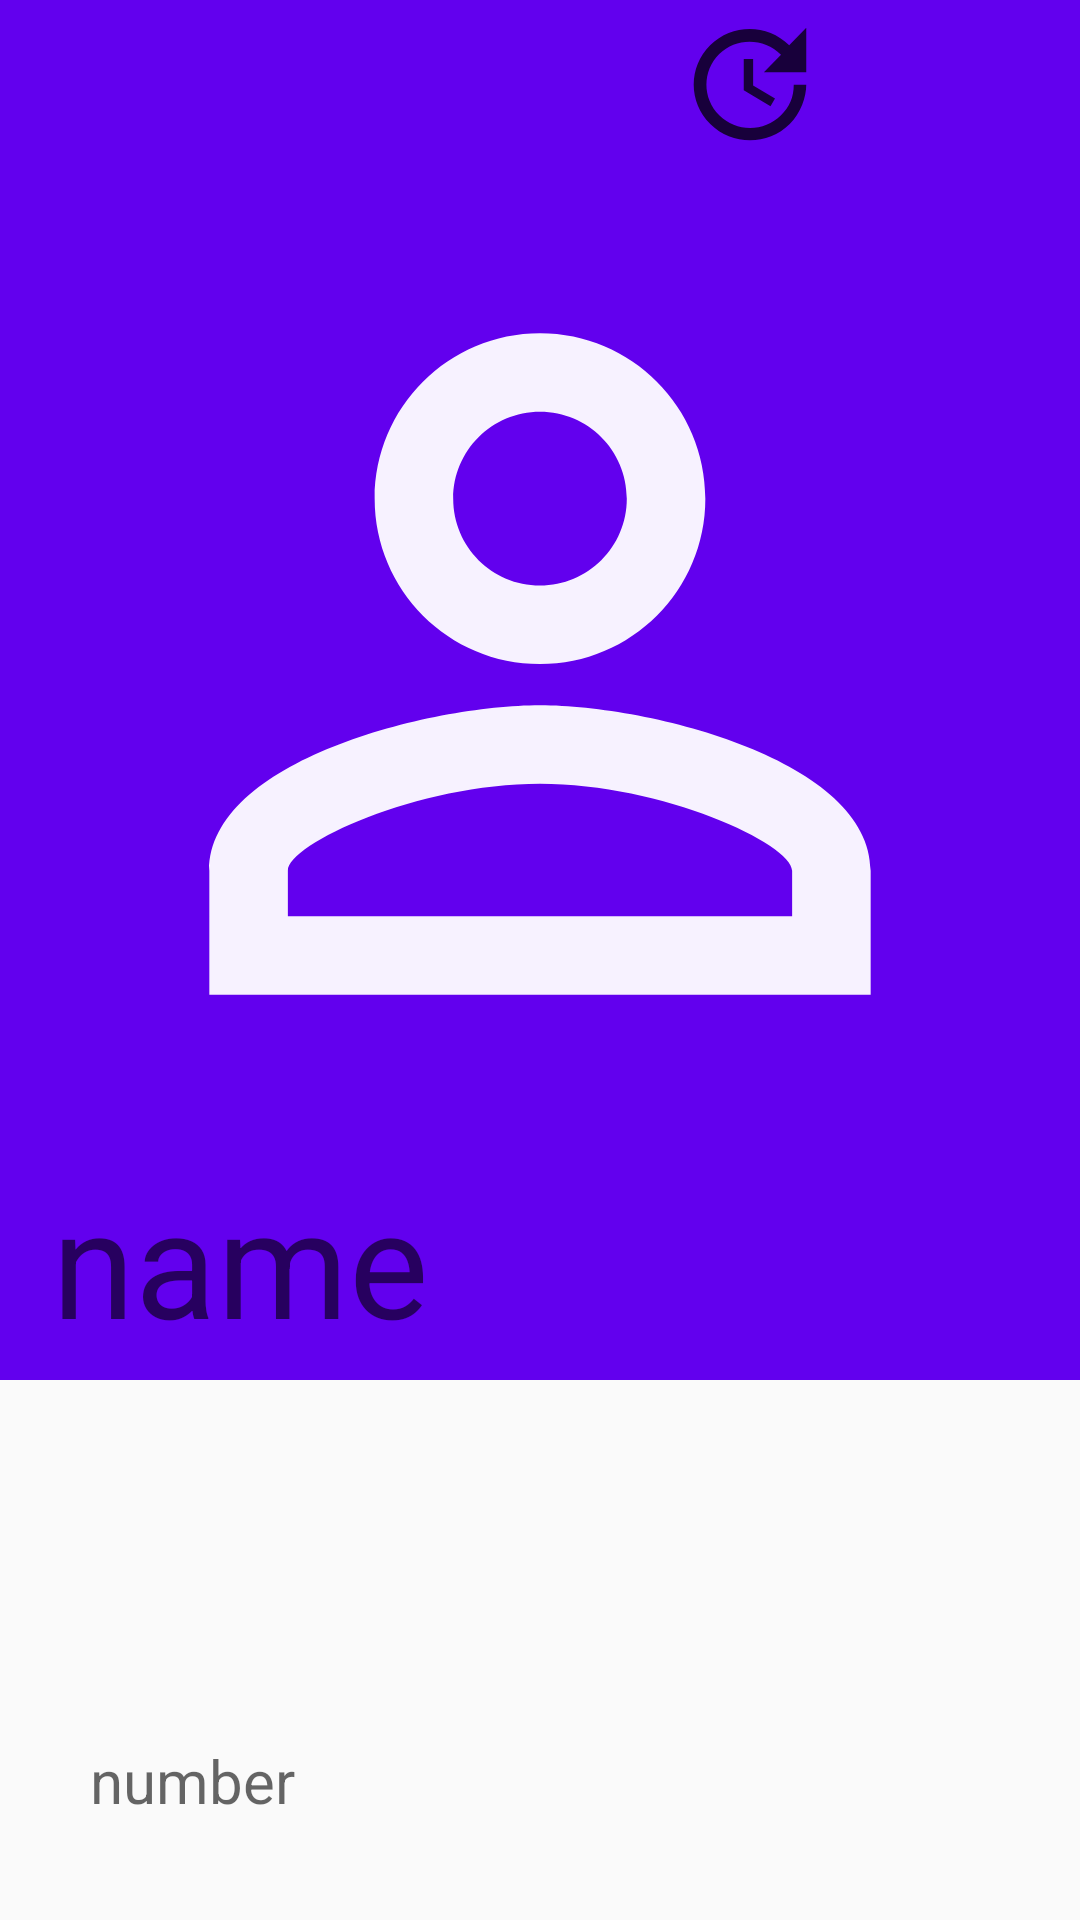

Screen size 1080px×1920px. Icon name, then its center in pixels as [x,y]:
update: [750,84]
